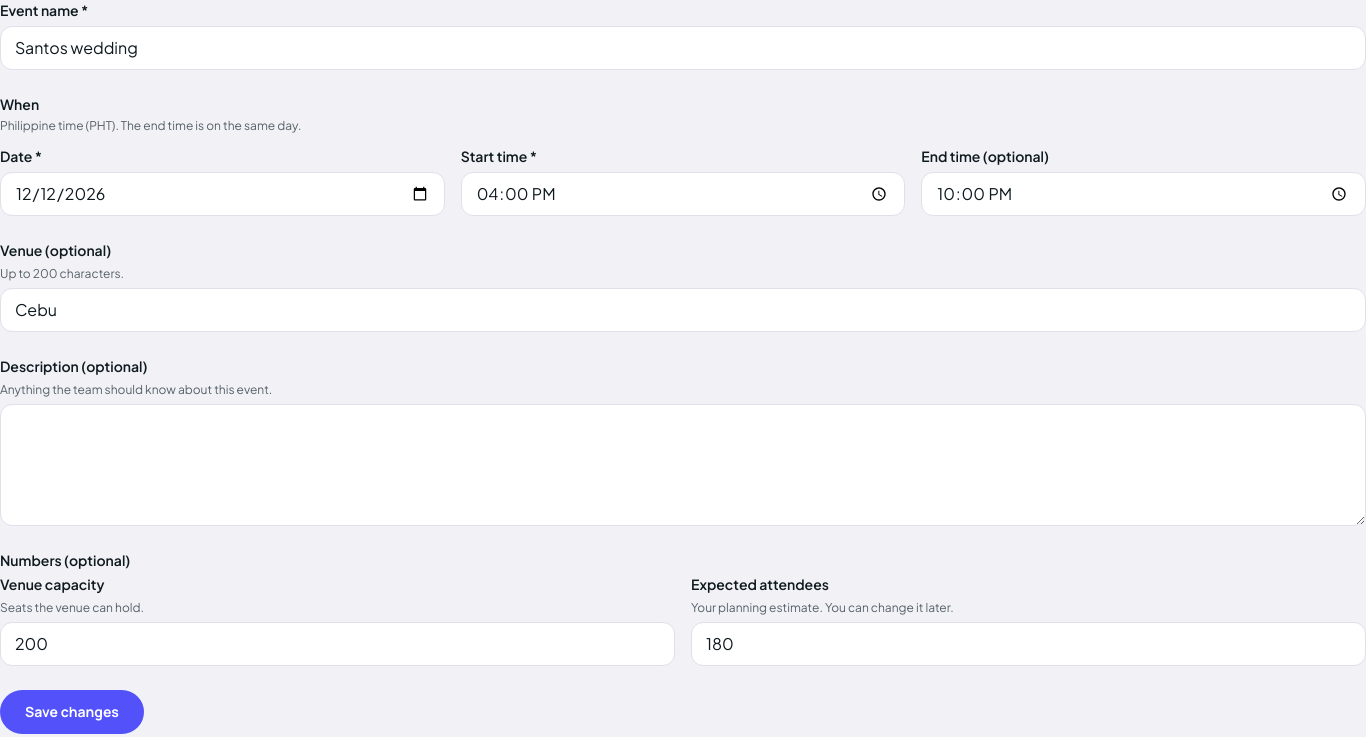
Test: EditEventForm › shows a stale-save message as a banner
The image size is (1366, 737).
Click the button "Save changes": click(72, 712) 0,690 -> 144,734
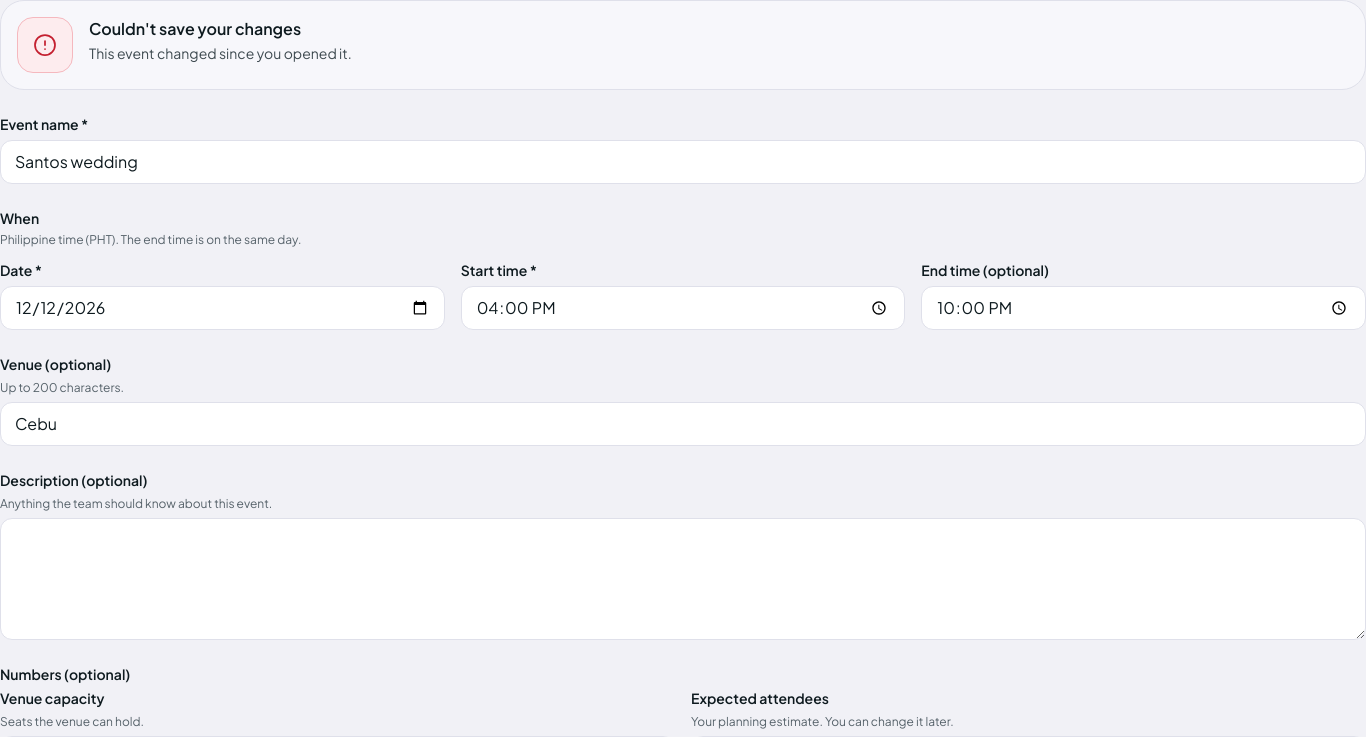
Check: the text "Couldn't save your changes" is shown, box 88,17 -> 301,39
Check: the text "This event changed since you opened it." is shown, box 89,44 -> 352,62
